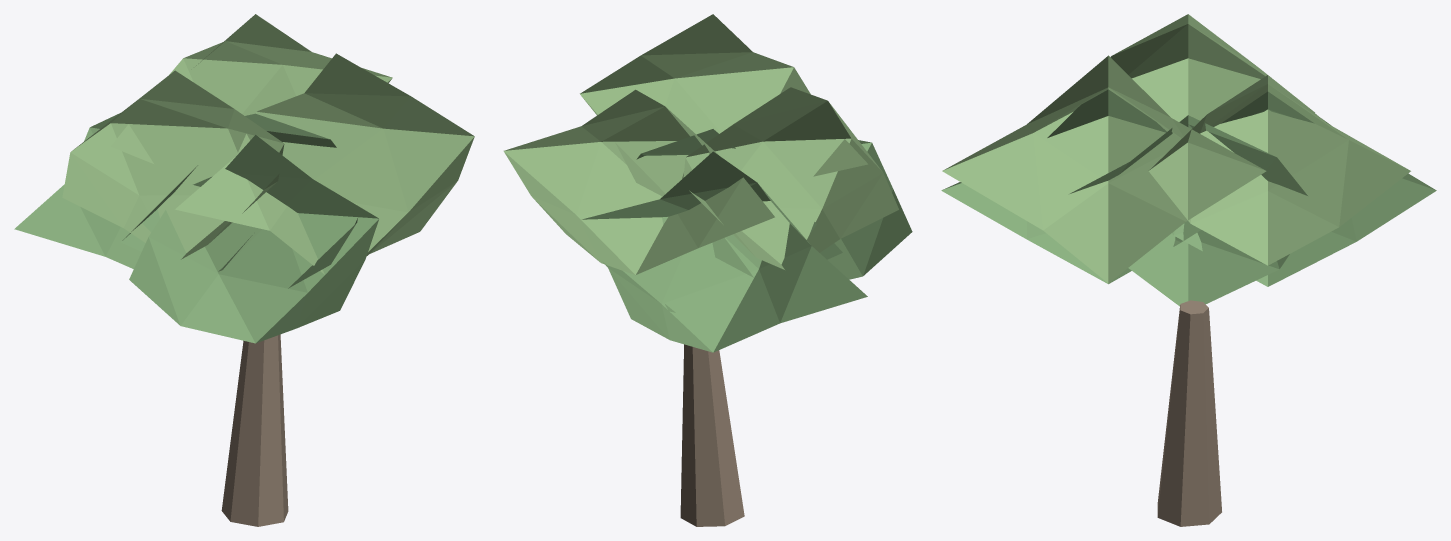
Rendered from broadleaf_v11.glb.
The picture shows the model from 3 angles, left to right: view 1: azimuth 30°, elevation 25°; view 2: azimuth 150°, elevation 25°; view 3: azimuth 270°, elevation 25°; orthographic projection. The views are drawn at different scales.
Parts seen in each view (by area): view 1: lod0; view 2: lod0; view 3: lod0.
Boxes of the visible parts, x1,y1,x2,y2 form: lod0: (14, 14, 474, 526); lod0: (503, 14, 912, 526); lod0: (941, 14, 1436, 526).
Size of what is drawn, in the model's own units: 4.6 by 5.58 by 5.25.
